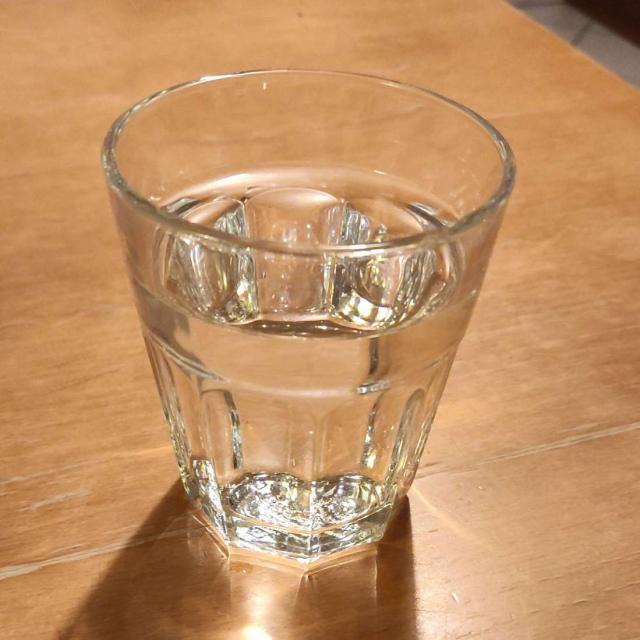water-with-lemon-juice: (141, 157, 486, 534)
